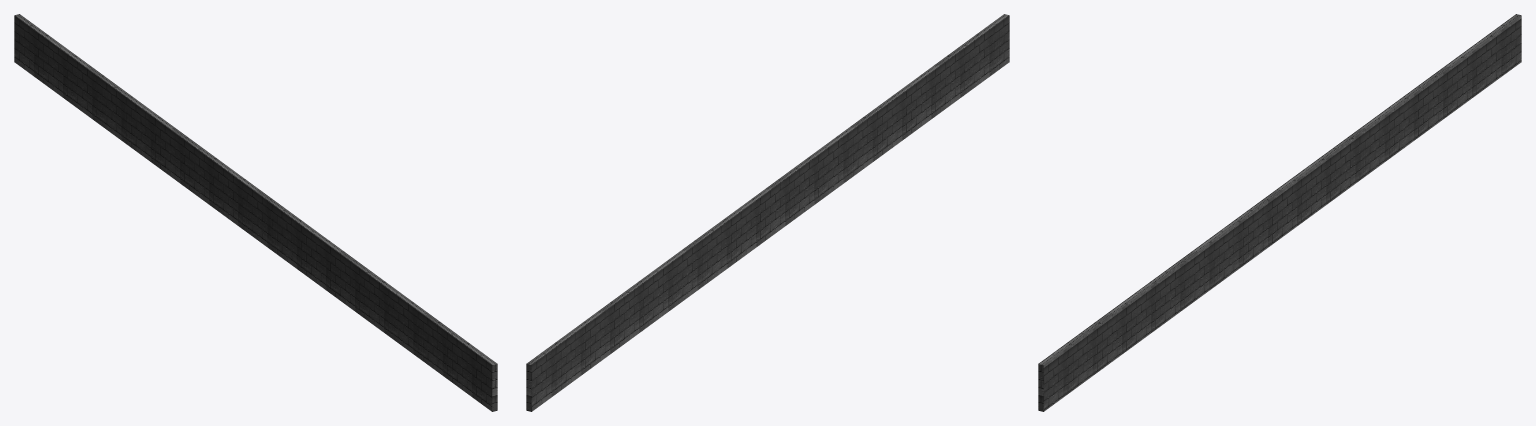
The model's file is MuroDer.obj.
3 renders of one model, left to right at view 1: azimuth 30°, elevation 25°; view 2: azimuth 150°, elevation 25°; view 3: azimuth 330°, elevation 25°, orthographic.
Visible parts, largest first — view 1: MuroDer; view 2: MuroDer; view 3: MuroDer.
Boxes of the visible parts, x1,y1,x2,y2 form: MuroDer: (14, 14, 497, 411); MuroDer: (526, 14, 1009, 411); MuroDer: (1038, 14, 1521, 411).
Size of the model in its own units: 2 by 16 by 297.
Materials: 1 (1 with a texture image).
